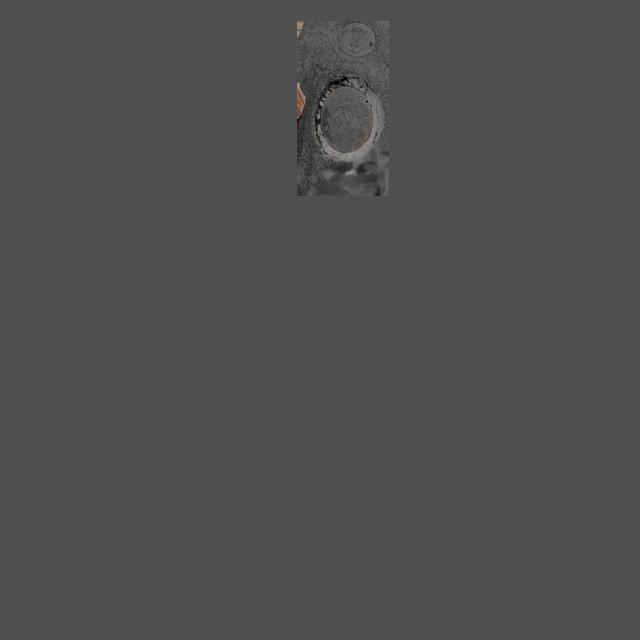circle: (316, 76, 384, 165)
good: (338, 22, 377, 56)
